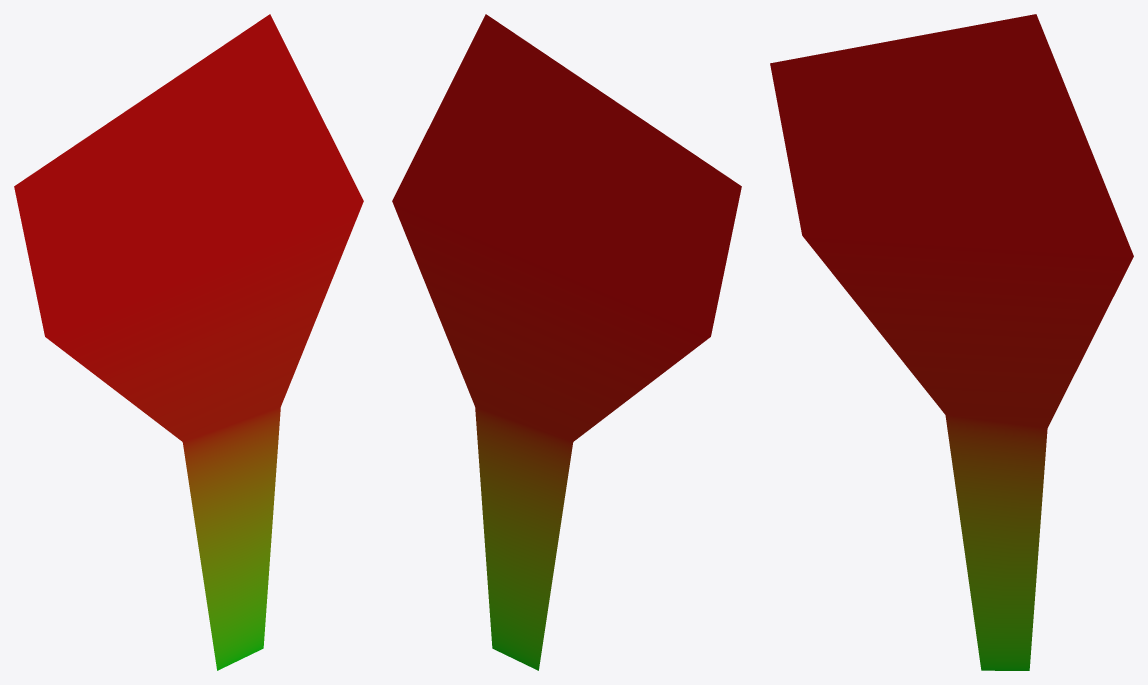
The model's file is Chamomile_LOD4_Var4.fbx.
3 renders of one model, left to right at view 1: azimuth 30°, elevation 25°; view 2: azimuth 150°, elevation 25°; view 3: azimuth 330°, elevation 25°, orthographic. The views are drawn at different scales.
Visible parts, largest first — view 1: _03xh_Var4_LOD4; view 2: _03xh_Var4_LOD4; view 3: _03xh_Var4_LOD4.
Part boxes in pixels (bbox=[...]): _03xh_Var4_LOD4: bbox=[14, 14, 363, 670]; _03xh_Var4_LOD4: bbox=[392, 14, 741, 670]; _03xh_Var4_LOD4: bbox=[770, 14, 1133, 670].
Bounding box in the file's own units: 31.58 × 55.56 × 6.62e-06.
